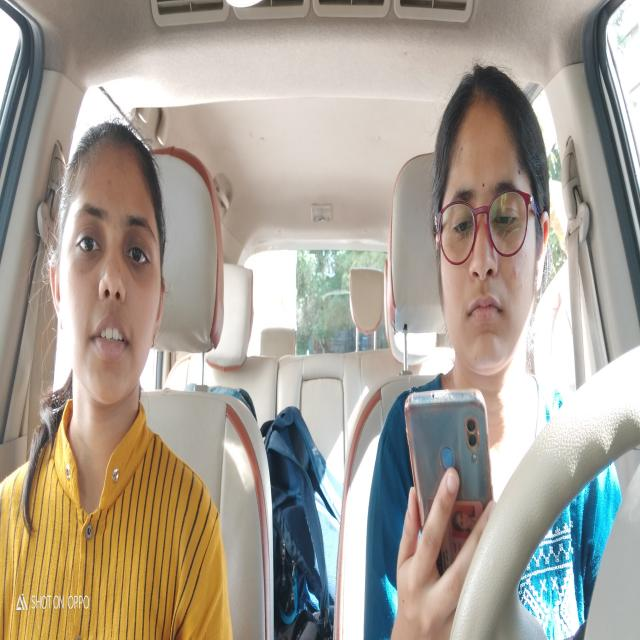mobile: (409, 384, 489, 534)
person: (442, 61, 550, 366), (58, 126, 168, 406)
